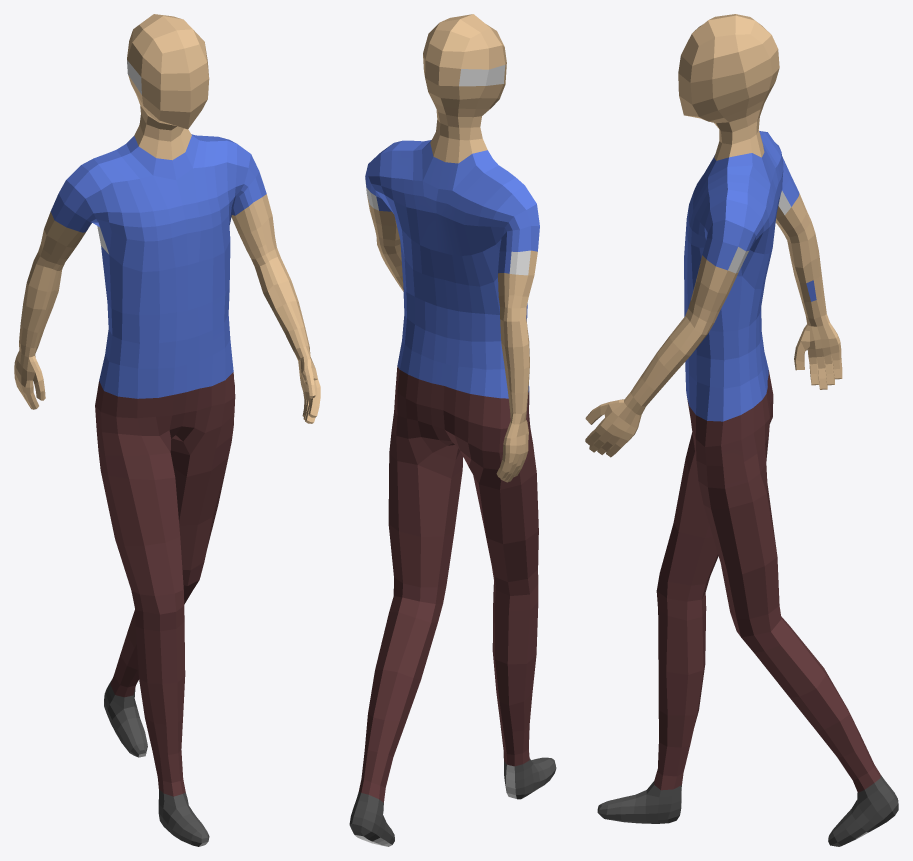
File: Man_0.glb
The picture shows the model from 3 angles, left to right: view 1: azimuth 30°, elevation 25°; view 2: azimuth 150°, elevation 25°; view 3: azimuth 270°, elevation 25°; orthographic projection. The views are drawn at different scales.
Parts seen in each view (by area): view 1: Man; view 2: Man; view 3: Man.
Boxes of the visible parts, x1,y1,x2,y2 form: Man: (14,14,320,846); Man: (349,14,556,846); Man: (585,14,898,846).
Bounding box in the file's own units: 2.8 × 10.22 × 3.55.
